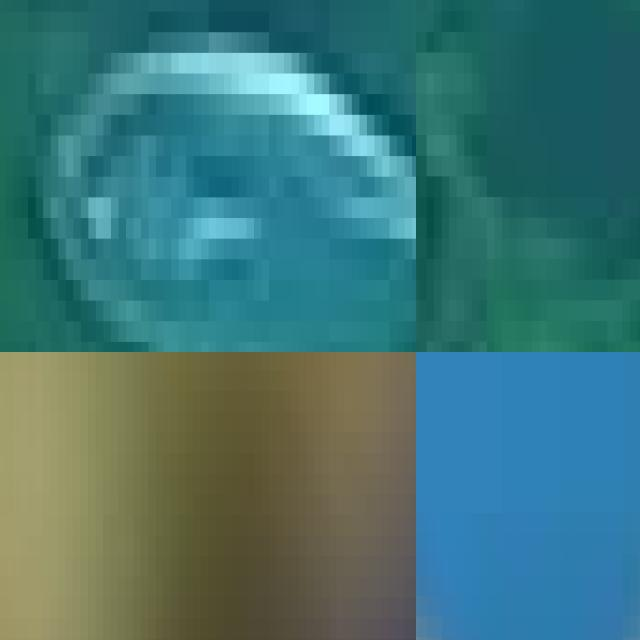fish: (5, 0, 416, 352)
